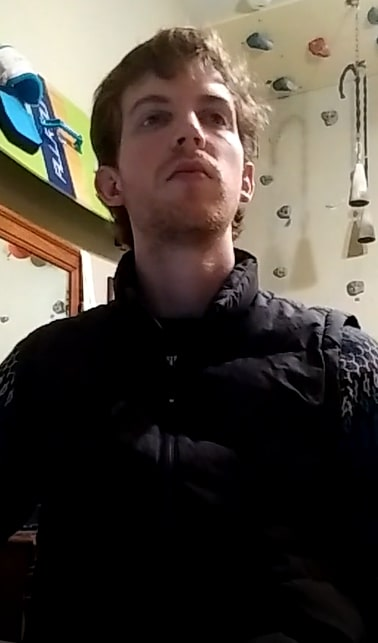Not Sleeping: (125, 93, 242, 136)
